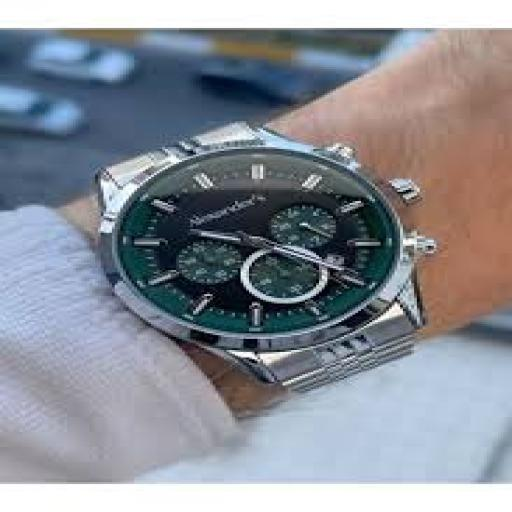KolSaati: (46, 110, 479, 401)
